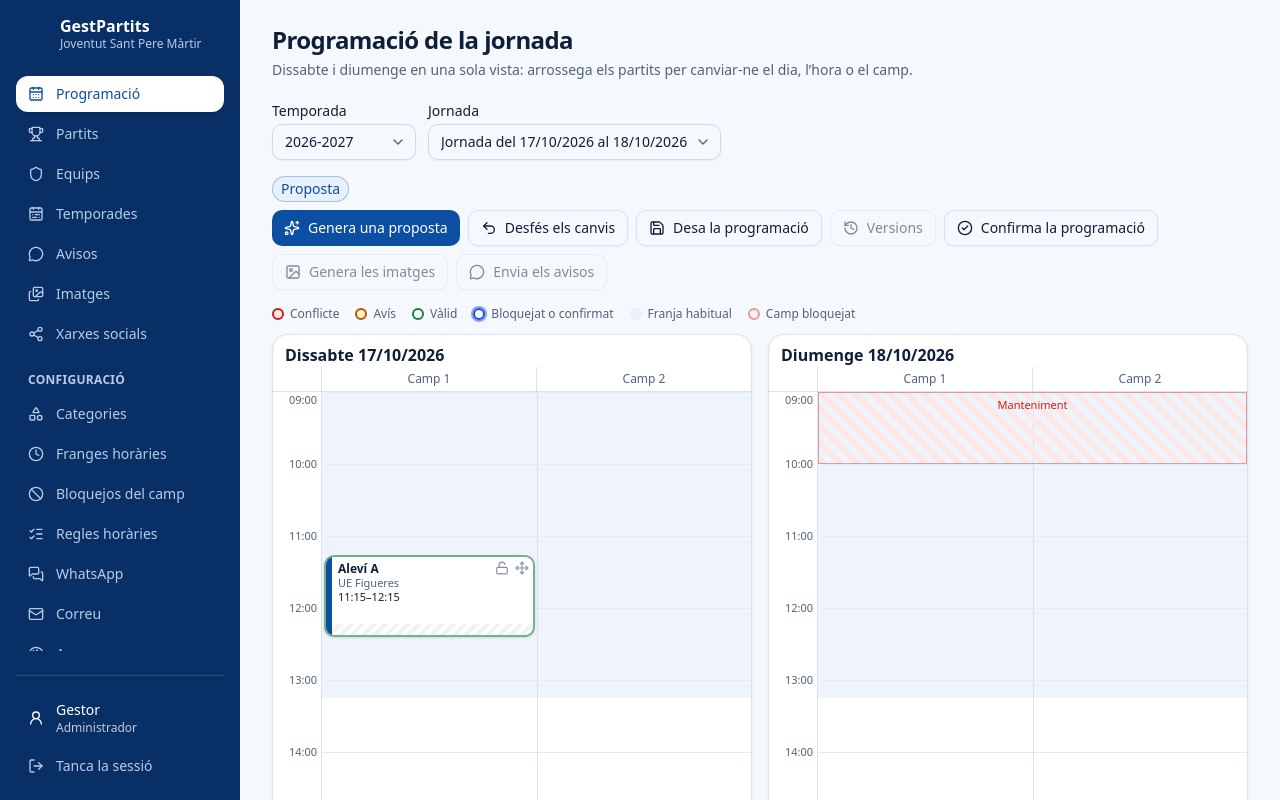
Test case: calendari de la jornada › no deixa confirmar si hi ha conflictes crítics i explica per què
Click the button "Confirma la programació" at (1051, 228), box x1=944 y1=210 x2=1158 y2=246
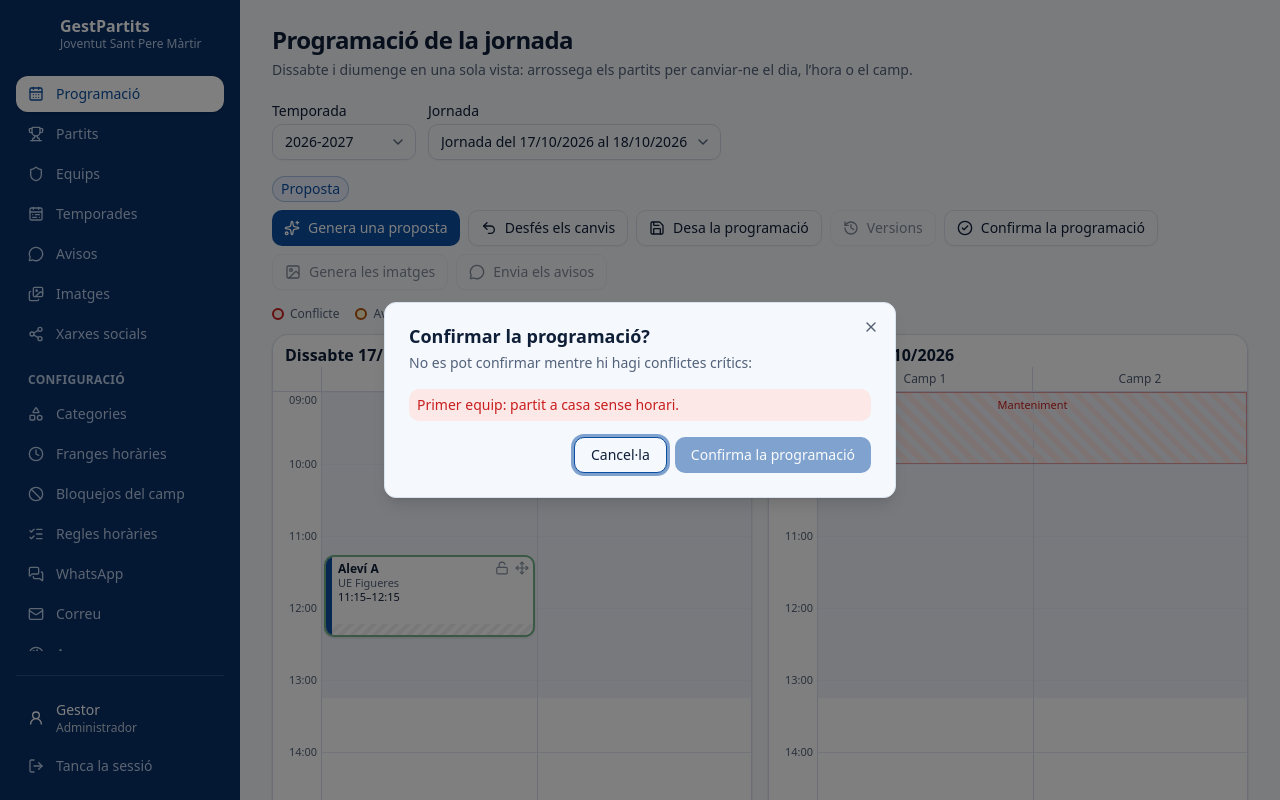
Expected: the text "No es pot confirmar mentre hi hagi conflictes crítics:" is shown, x1=409 y1=353 x2=752 y2=372
Expected: the list item "Primer equip: partit a casa sense horari." is shown, x1=409 y1=389 x2=871 y2=421
Expected: the button "Confirma la programació" is disabled, x1=675 y1=437 x2=871 y2=473
